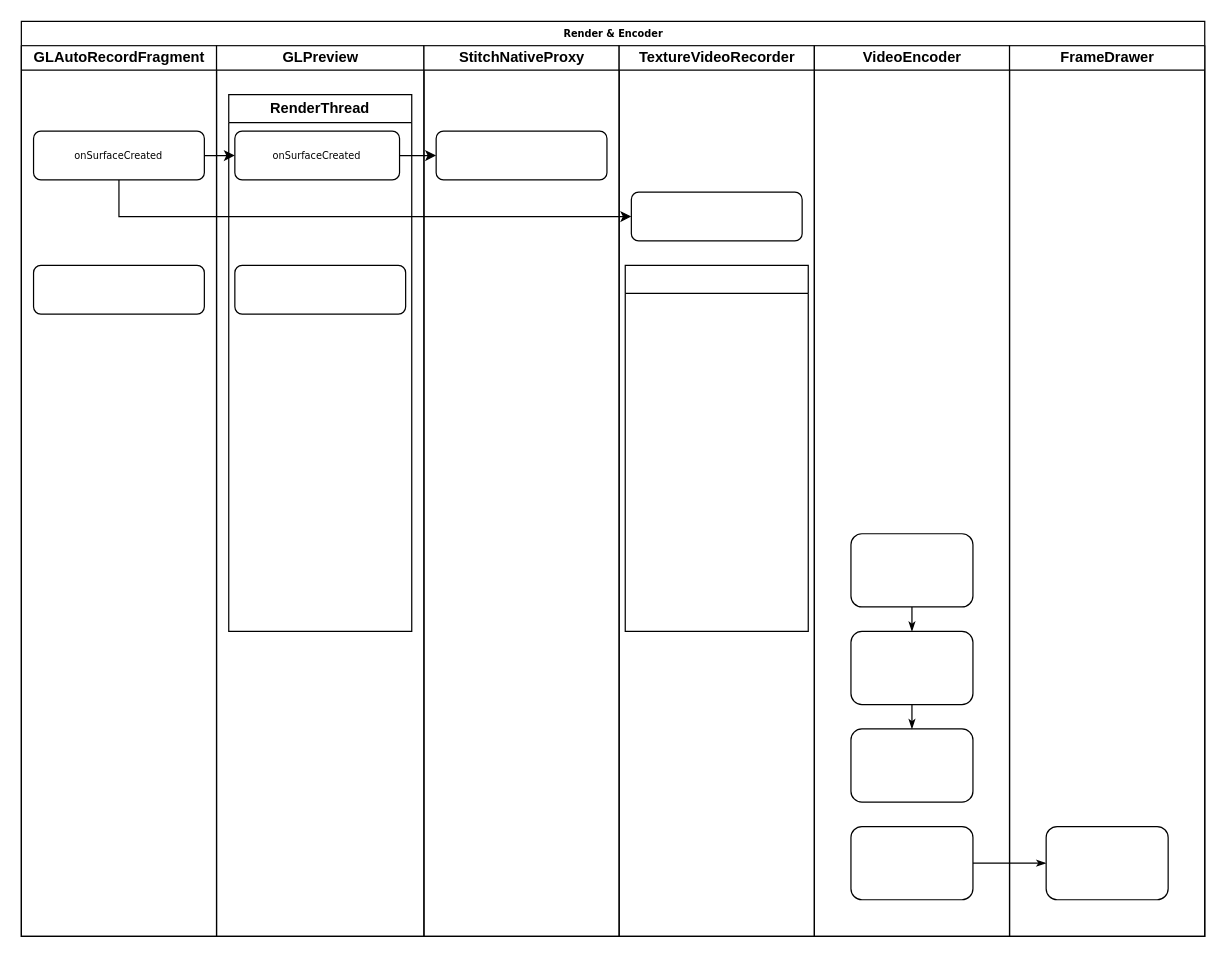
Some shapes in this 1226 by 958 pixel diagram are drawn without their labels. The centre of each missing label's shape, as x and y in pixels:
"EncodeThread" belongs at point (716, 447).
"init" belongs at point (716, 216).
"nativeInit" belongs at point (521, 155).
"onDraw" belongs at point (118, 289).
"onDrawFrame" belongs at point (320, 289).
